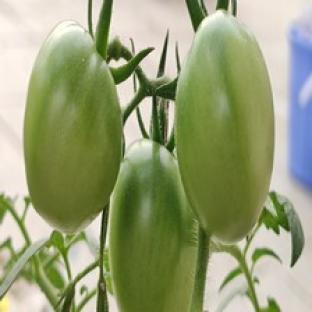Tomato: (176, 10, 274, 242), (24, 21, 122, 232), (109, 140, 196, 311)
